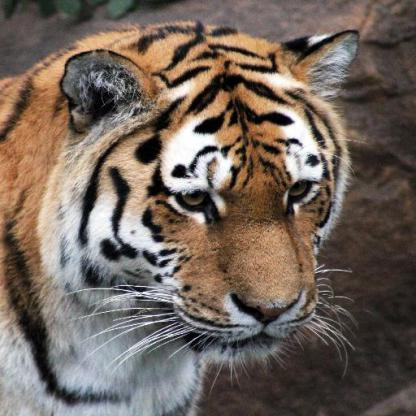tiger: (60, 27, 360, 356)
